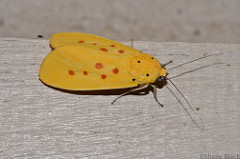Agape chloropyga: (36, 26, 224, 126)
moth: (38, 28, 226, 128)
